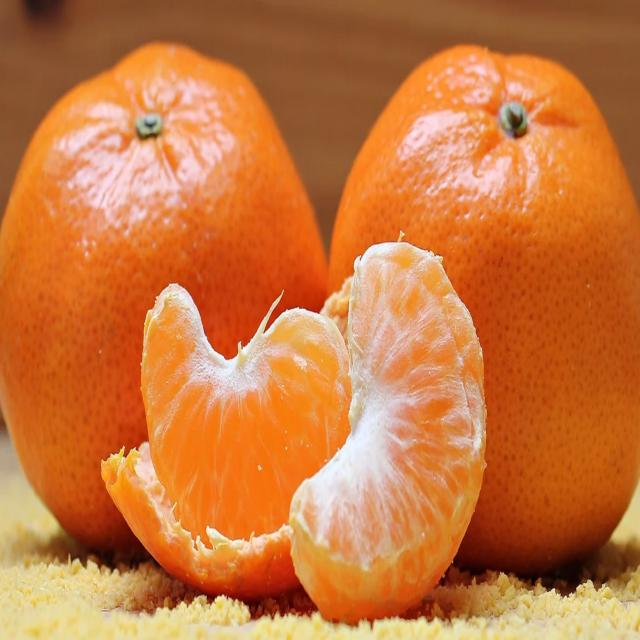10_tangerine: (0, 39, 329, 572), (324, 37, 640, 573), (293, 222, 485, 616), (122, 288, 354, 560)
